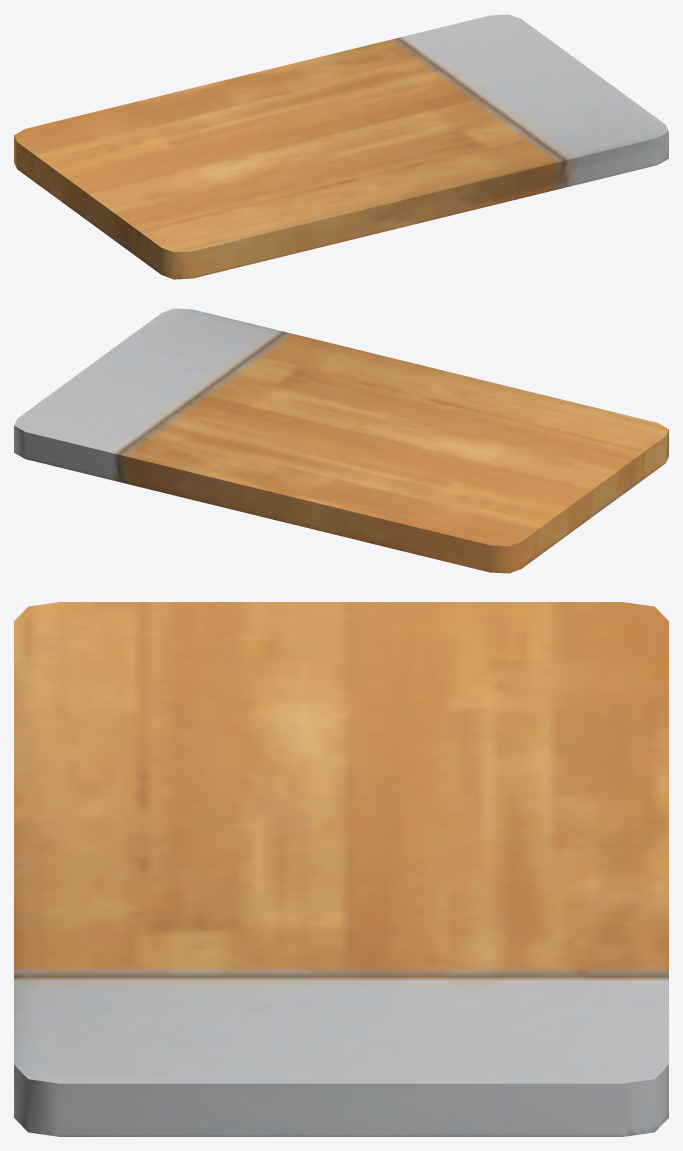
The model's file is CuttingBoard01.FBX.
The picture shows the model from 3 angles, top to bottom: view 1: azimuth 30°, elevation 25°; view 2: azimuth 150°, elevation 25°; view 3: azimuth 270°, elevation 25°; orthographic projection. The views are drawn at different scales.
Parts seen in each view (by area): view 1: CuttingBoard01; view 2: CuttingBoard01; view 3: CuttingBoard01.
Boxes of the visible parts, x1=… form: CuttingBoard01: x1=14, y1=14, x2=668, y2=279; CuttingBoard01: x1=14, y1=308, x2=668, y2=573; CuttingBoard01: x1=14, y1=602, x2=668, y2=1136.
Bounding box in the file's own units: 0.4996 × 0.0258 × 0.2872.
